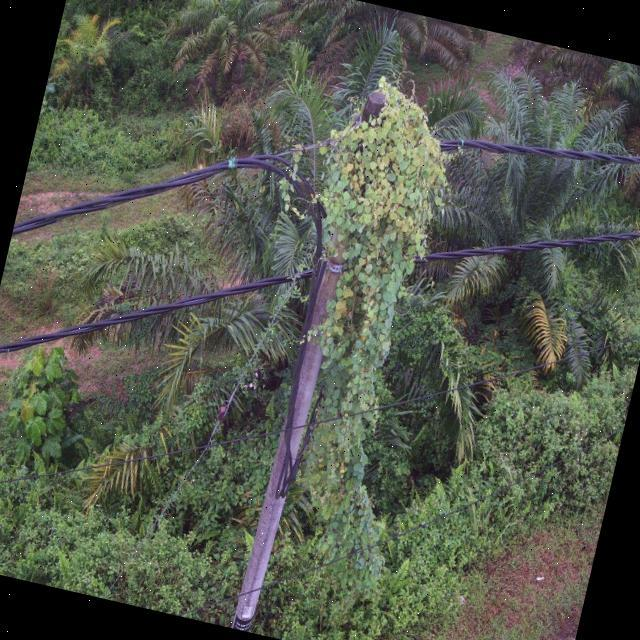critical vegetation: (206, 49, 486, 582)
